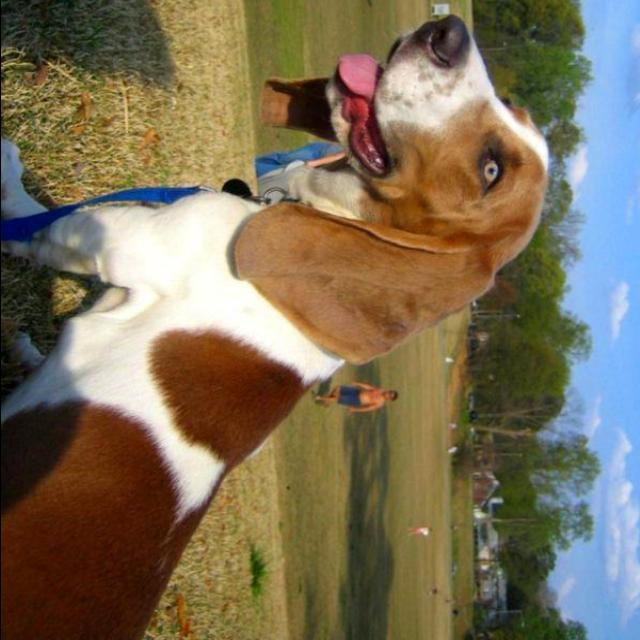basset: (6, 14, 552, 636)
